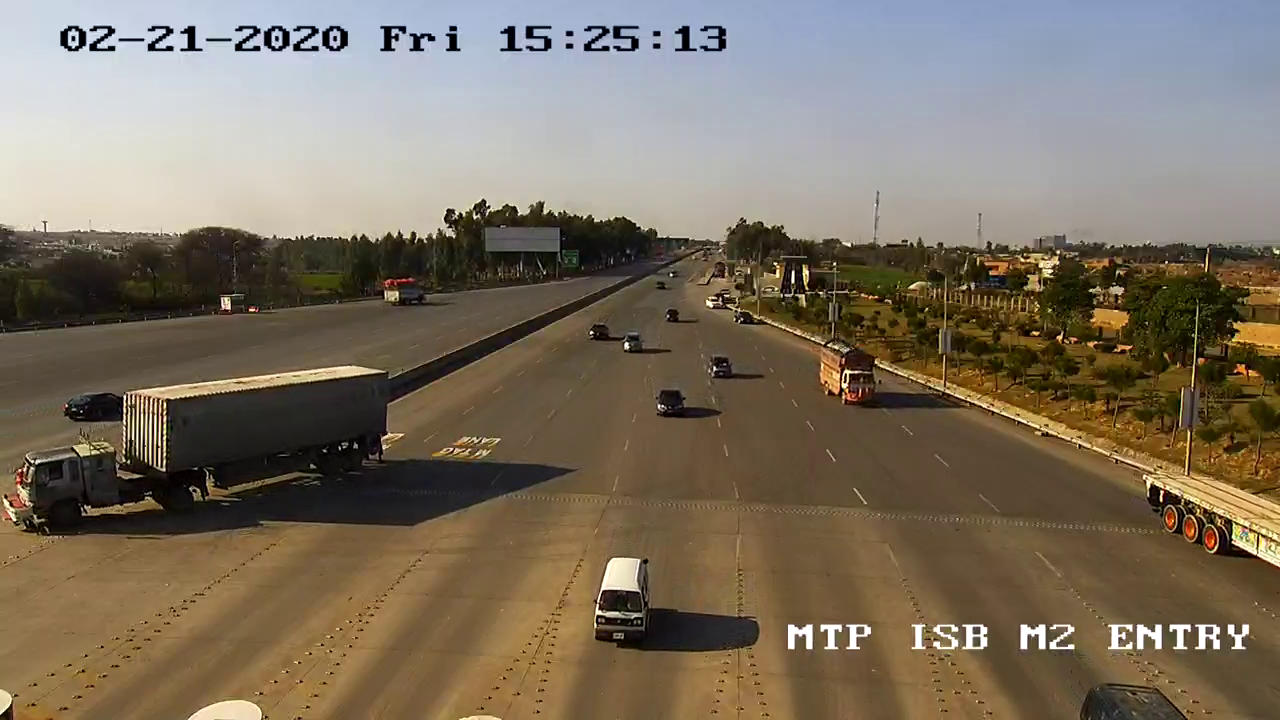f1: (581, 546, 663, 649)
f5: (814, 332, 881, 413)
